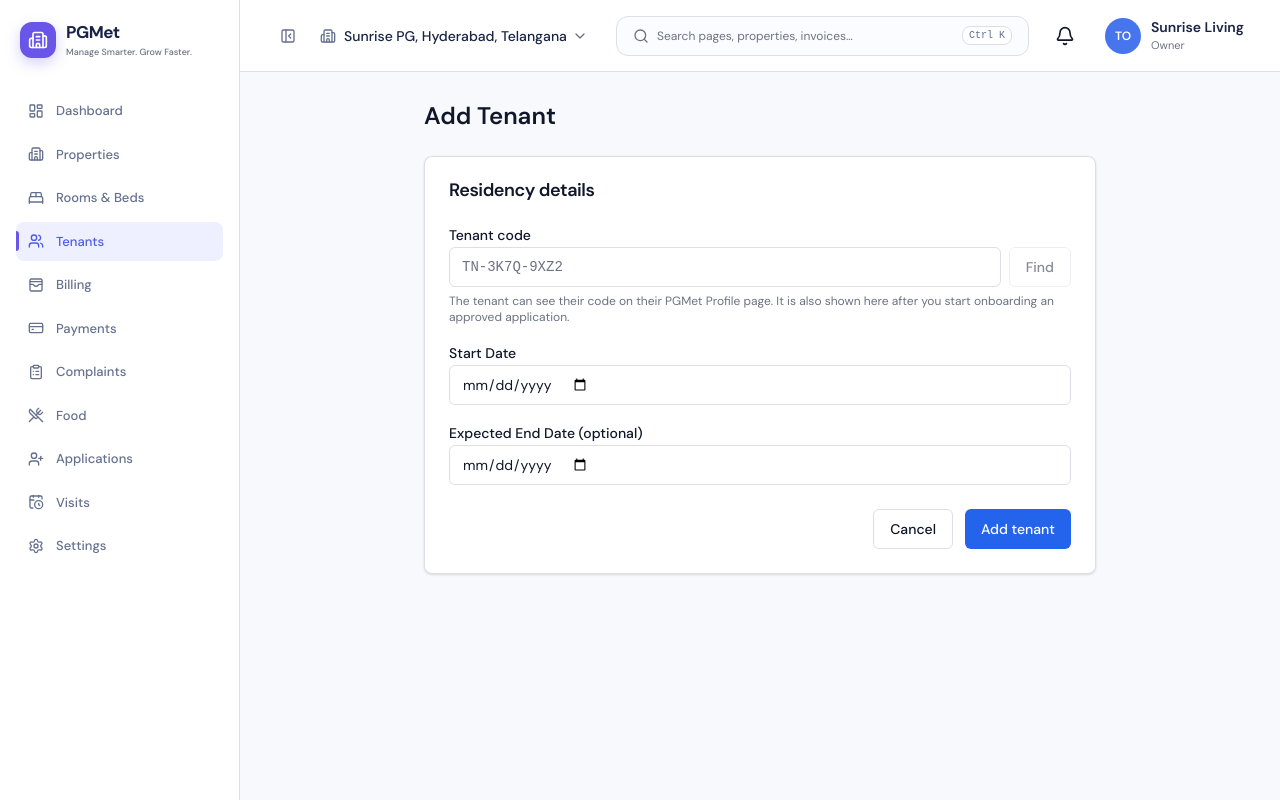
Add Tenant (residency create) with tenant codes › rejects something that is neither a code nor an ID
The image size is (1280, 800).
Type "hello" into the field labelled "Tenant code" at (725, 267), box [449,247,1001,287]
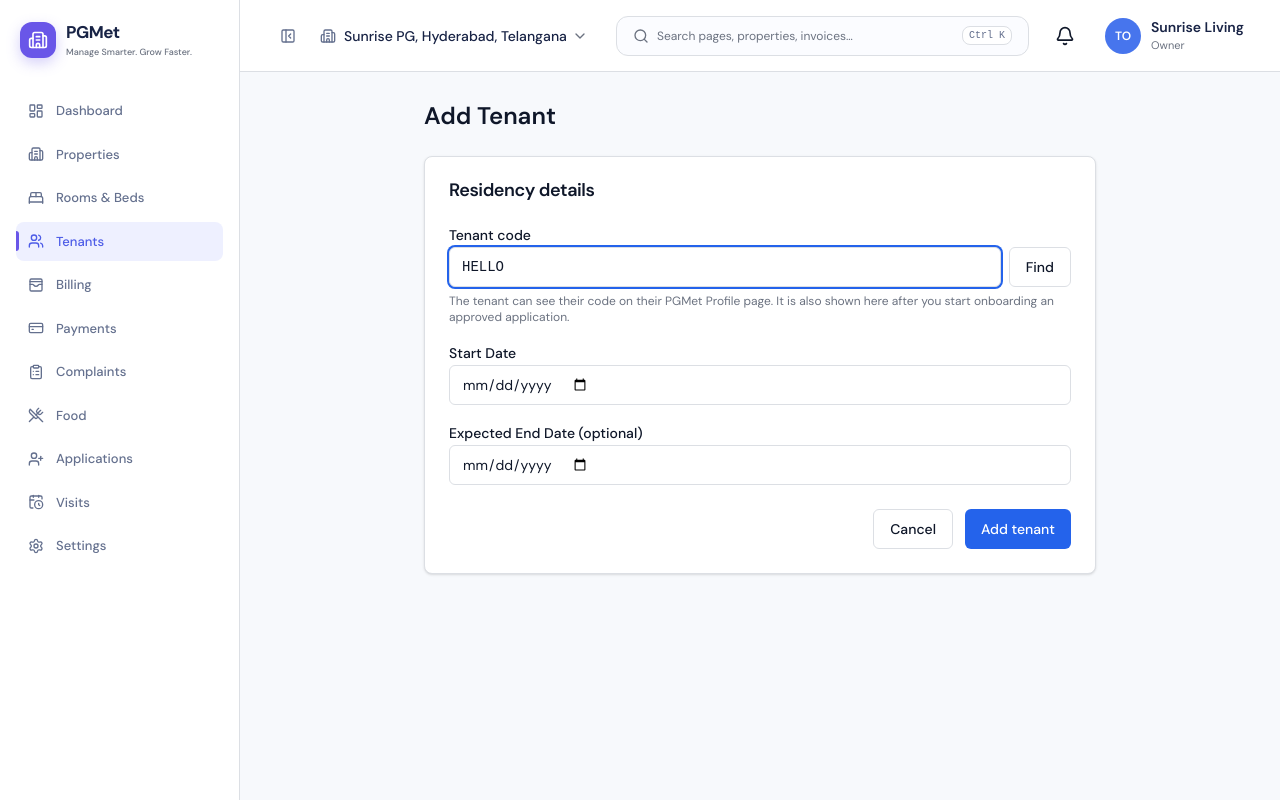
Click the button "Add tenant" at (1018, 529), box [965,509,1071,549]
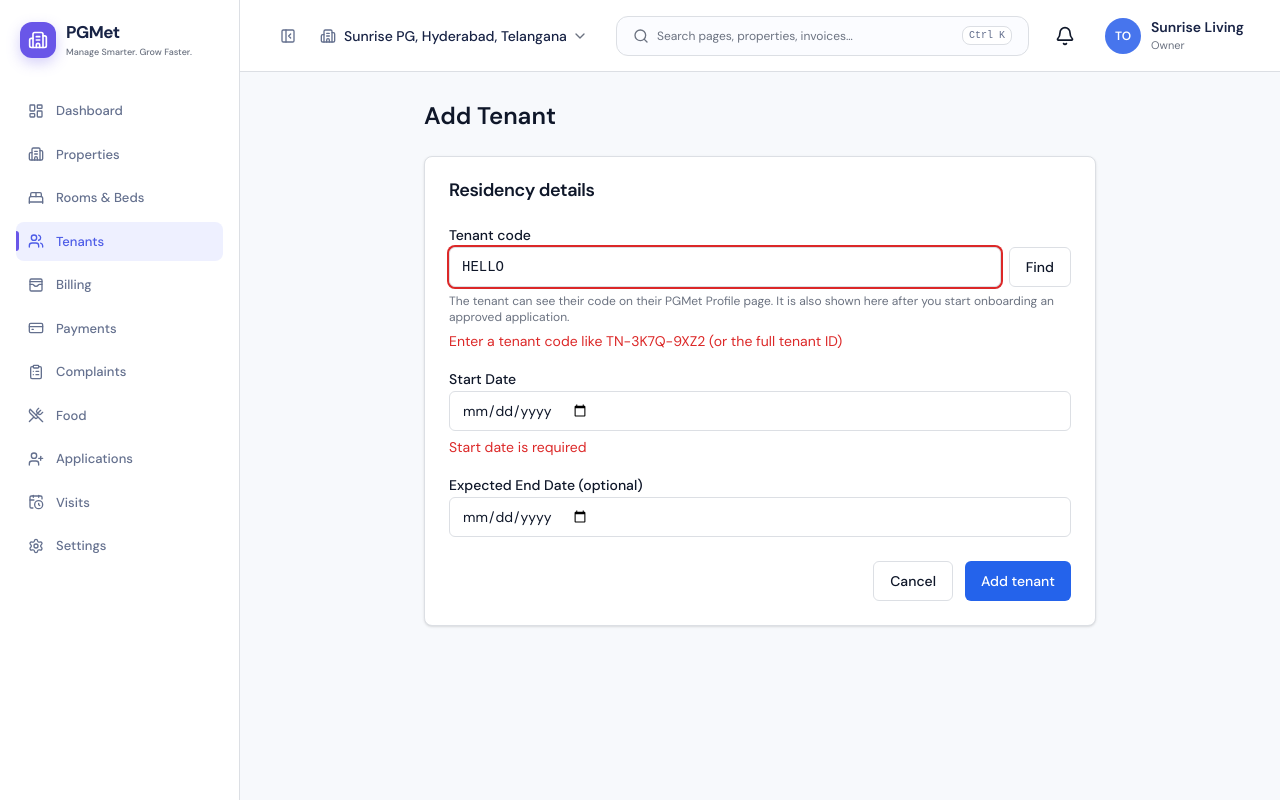
Check: the text "Enter a tenant code like TN-3K7Q-9XZ2 (or the full tenant ID)" is shown, box [449,332,842,350]
